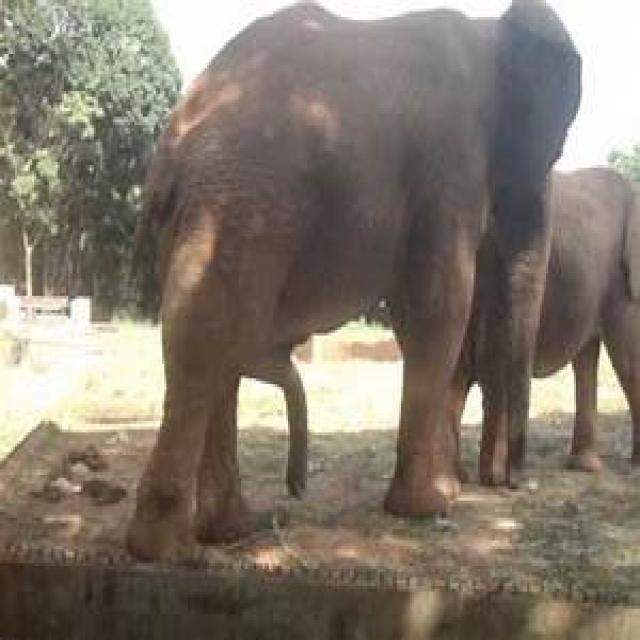elephant: (126, 0, 606, 563), (529, 168, 640, 472)
